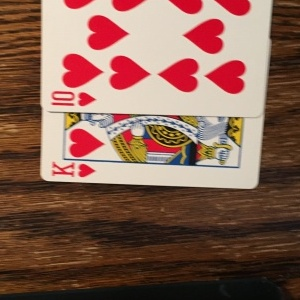card: (40, 110, 259, 190)
